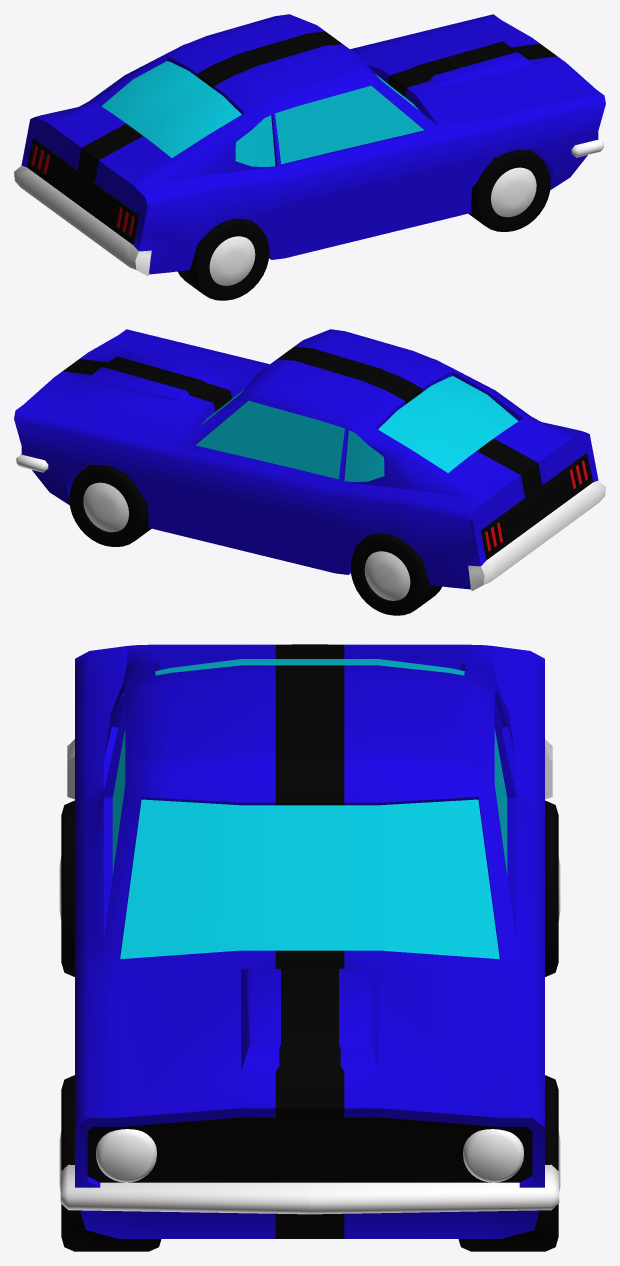
File: MuscleCar.fbx
3 renders of one model, top to bottom at view 1: azimuth 30°, elevation 25°; view 2: azimuth 150°, elevation 25°; view 3: azimuth 270°, elevation 25°, orthographic. The views are drawn at different scales.
Parts seen in each view (by area): view 1: MuscleCar, BR_WHEEL, FR_WHEEL; view 2: MuscleCar, BL_WHEEL, FL_WHEEL; view 3: MuscleCar, FL_WHEEL, FR_WHEEL, BL_WHEEL, BR_WHEEL.
Boxes of the visible parts, x1,y1,x2,y2 form: MuscleCar: (14,14,605,275); BR_WHEEL: (177,218,269,300); FR_WHEEL: (468,149,550,231); MuscleCar: (14,329,605,590); BL_WHEEL: (350,533,442,615); FL_WHEEL: (69,464,151,546); MuscleCar: (60,644,559,1238); FL_WHEEL: (458,1075,560,1251); FR_WHEEL: (59,1075,161,1251); BL_WHEEL: (545,800,560,976); BR_WHEEL: (59,800,74,976).
Bounding box in the file's own units: 398 × 146 × 182.
